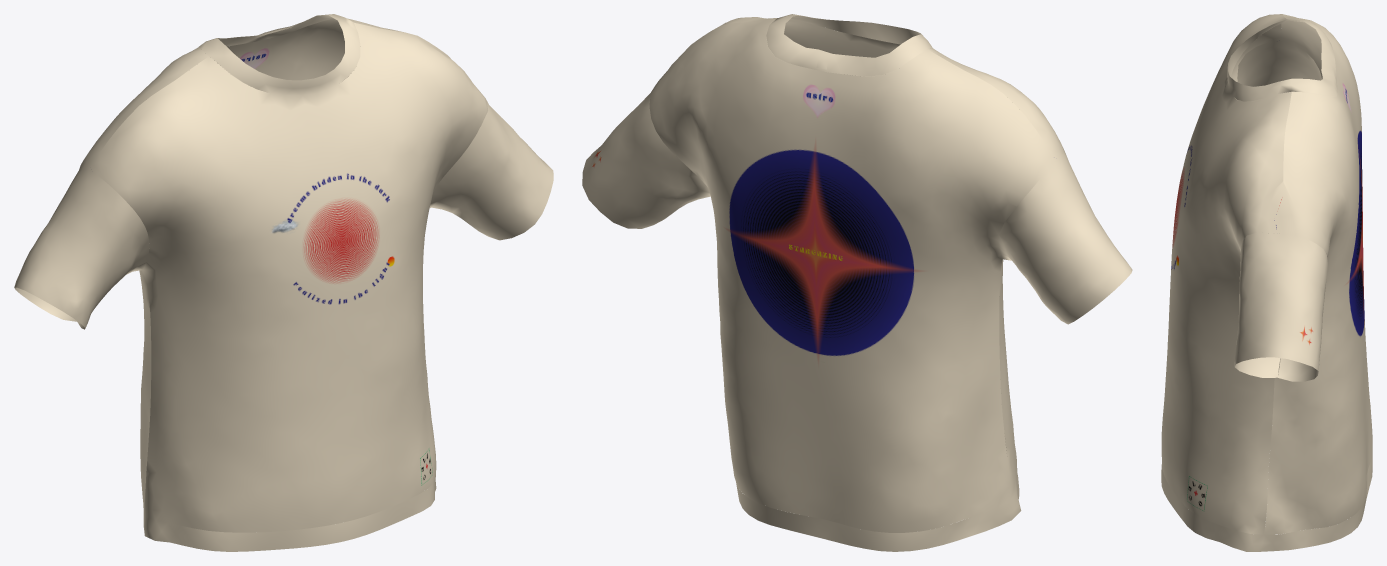
Rendered from tee-v3.gltf.
3 renders of one model, left to right at view 1: azimuth 30°, elevation 25°; view 2: azimuth 150°, elevation 25°; view 3: azimuth 270°, elevation 25°, orthographic. The views are drawn at different scales.
Visible parts, largest first — view 1: IN_THE_DARK_TEE_V1; view 2: IN_THE_DARK_TEE_V1; view 3: IN_THE_DARK_TEE_V1.
Boxes of the visible parts, bbox=[...] form: IN_THE_DARK_TEE_V1: bbox=[14, 14, 553, 551]; IN_THE_DARK_TEE_V1: bbox=[582, 14, 1132, 551]; IN_THE_DARK_TEE_V1: bbox=[1161, 14, 1372, 551].
Bounding box in the file's own units: 7.41 × 6.39 × 2.7.
1 material, 1 textured.
